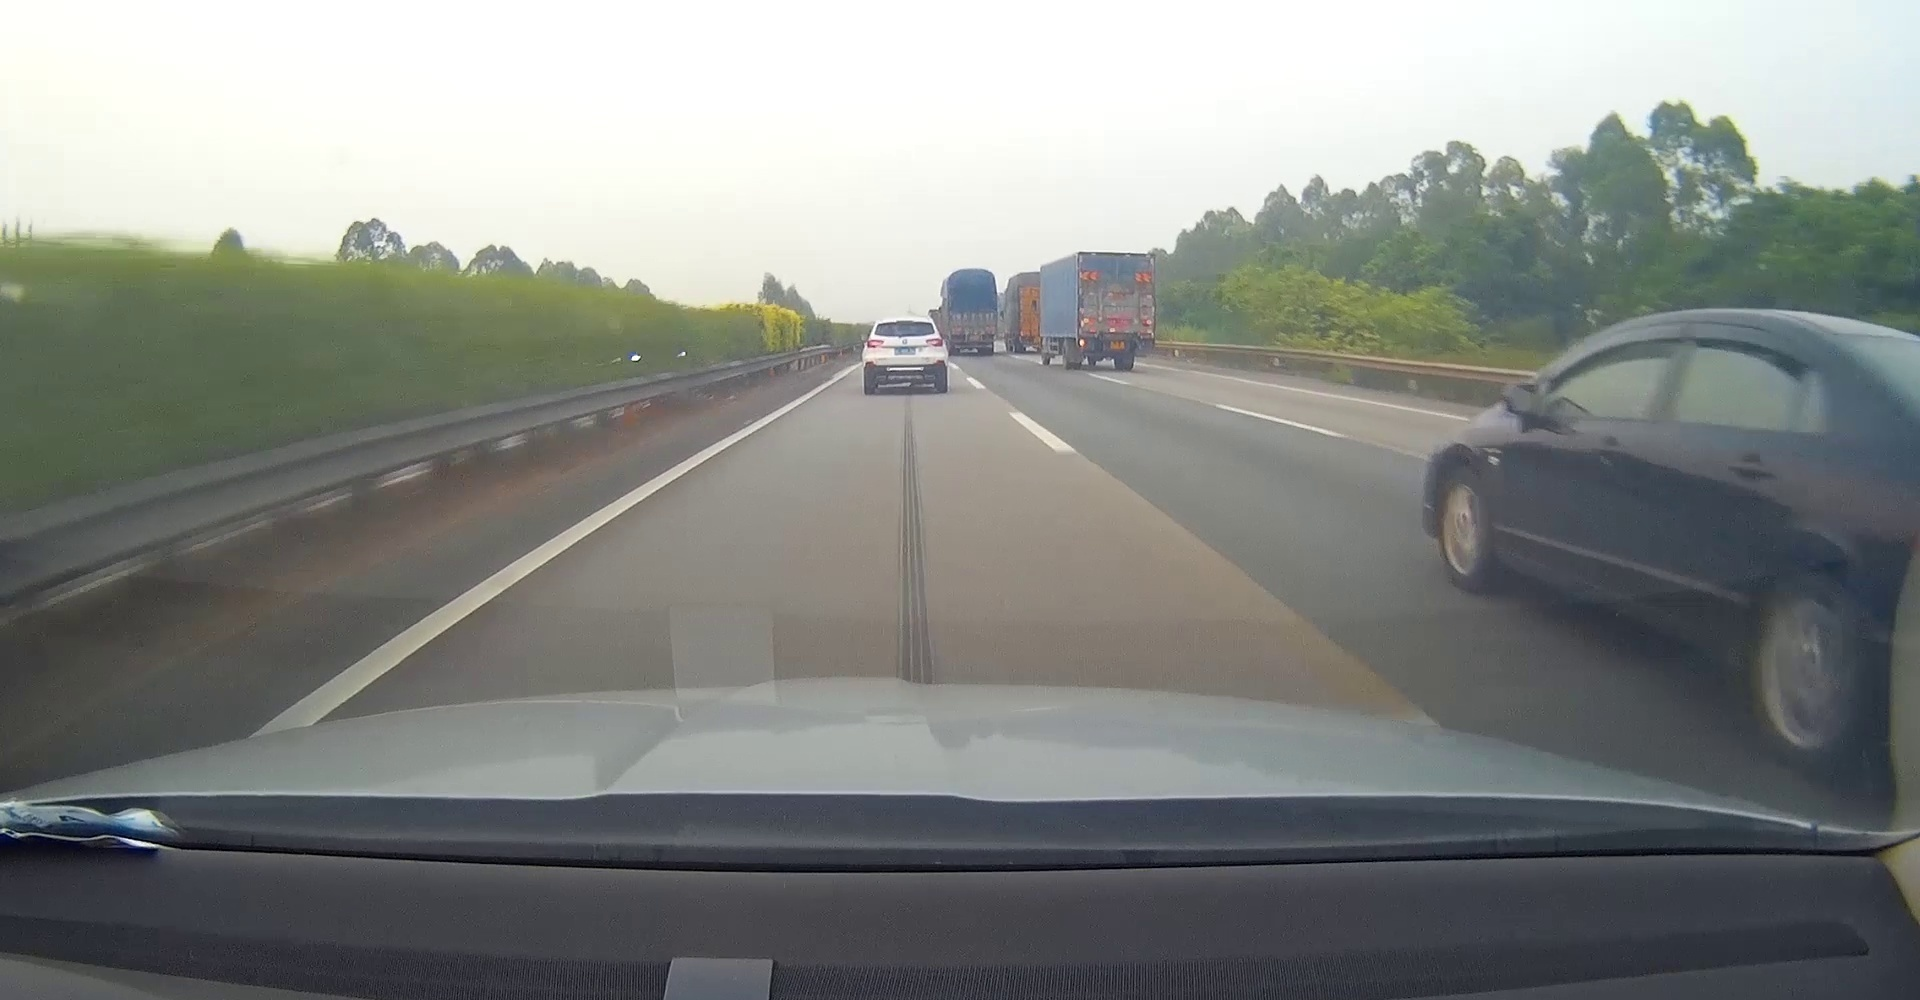L_light: (867, 339, 885, 348), (1078, 338, 1095, 346), (952, 338, 964, 341)
R_light: (924, 338, 943, 346), (1137, 340, 1153, 349), (982, 338, 993, 341)
T_light: (1110, 259, 1126, 264), (897, 320, 913, 324), (971, 324, 980, 327)
day-no: (1076, 251, 1157, 372), (861, 317, 949, 395), (949, 269, 998, 357)
